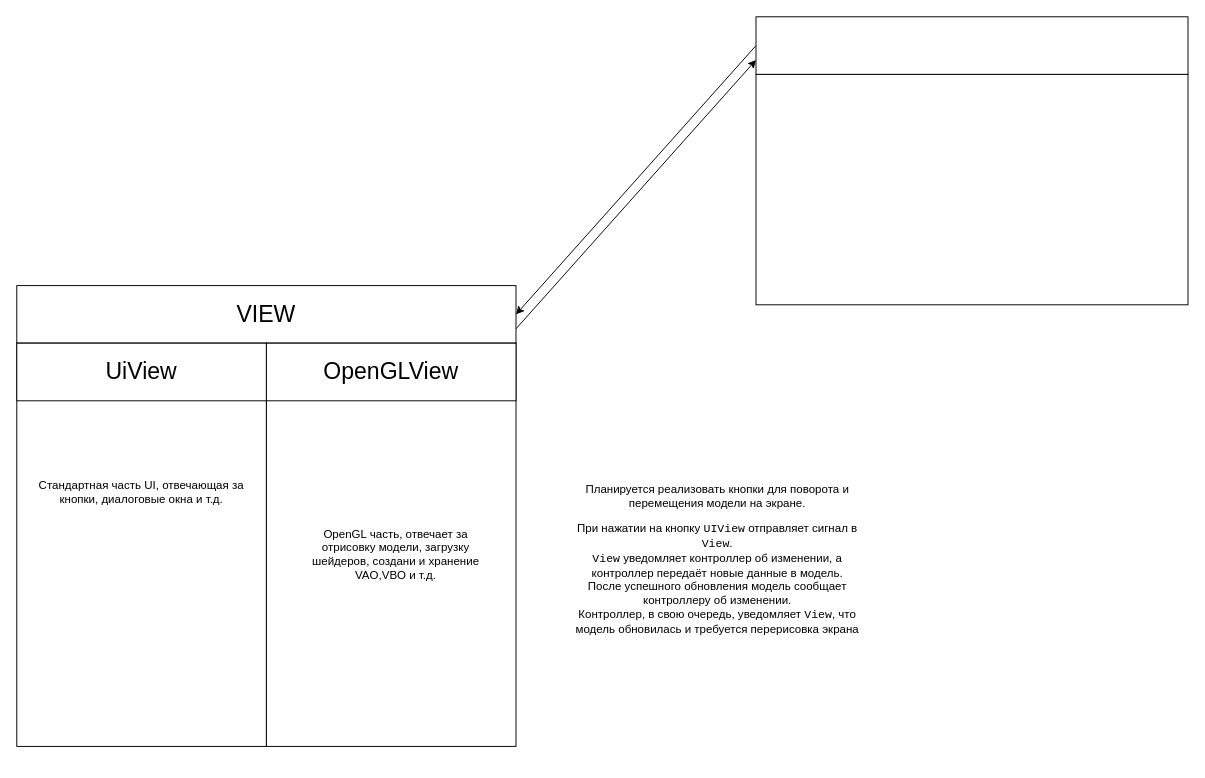
Some shapes in this 1205 by 778 pixel diagram are drawn without their labels. Each missing label, with the centre of its shape:
"Controller" belongs at point (971, 45).
"Организует взаимодействие view и модели." belongs at point (971, 189).
